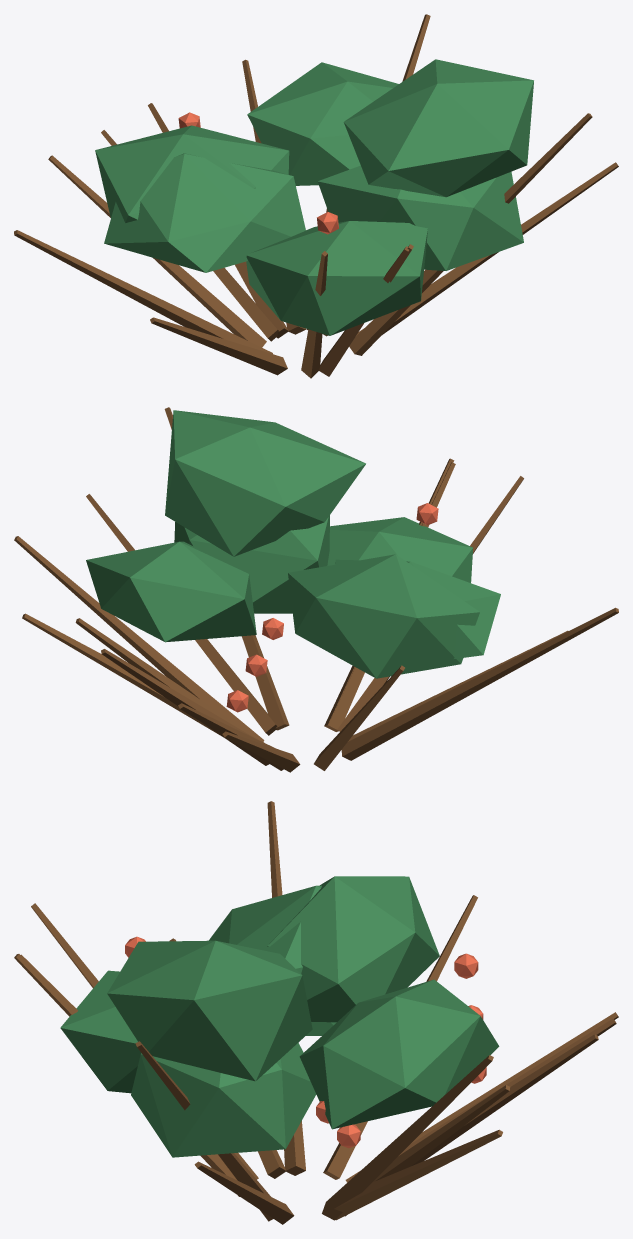
Rendered from sm_env_forest_bramble_thicket.glb.
3 renders of one model, top to bottom at view 1: azimuth 30°, elevation 25°; view 2: azimuth 150°, elevation 25°; view 3: azimuth 270°, elevation 25°, orthographic. The views are drawn at different scales.
Visible parts, largest first — view 1: BrambleLeaves.004, BrambleLeaves.003, BrambleLeaves, BrambleLeaves.005, BrambleLeaves.002, BrambleLeaves.001, BrambleCane.001, BrambleCane.009, BrambleCane.010, BrambleCane.011, BrambleCane.005, BrambleCane.002 (+5 smaller); view 2: BrambleLeaves.004, BrambleLeaves.001, BrambleLeaves.002, BrambleLeaves.005, BrambleLeaves, BrambleCane.001, BrambleCane.008, BrambleLeaves.003, BrambleCane.011, BrambleCane.004, BrambleCane.013, BrambleCane.006 (+7 smaller); view 3: BrambleLeaves.004, BrambleLeaves.002, BrambleLeaves.001, BrambleLeaves.005, BrambleLeaves, BrambleLeaves.003, BrambleCane.008, BrambleCane.004, BrambleCane.013, BrambleCane.006, BrambleCane.001, BrambleCane.011 (+6 smaller).
Part boxes in pixels (left/top/right/bottom): BrambleLeaves.004: left=343, top=59, right=533, bottom=197; BrambleLeaves.003: left=104, top=153, right=305, bottom=272; BrambleLeaves: left=246, top=221, right=427, bottom=335; BrambleLeaves.005: left=317, top=165, right=523, bottom=270; BrambleLeaves.002: left=247, top=62, right=398, bottom=185; BrambleLeaves.001: left=95, top=125, right=289, bottom=222; BrambleCane.001: left=14, top=230, right=272, bottom=353; BrambleCane.009: left=48, top=155, right=266, bottom=347; BrambleCane.010: left=349, top=113, right=592, bottom=355; BrambleCane.011: left=355, top=162, right=618, bottom=336; BrambleCane.005: left=150, top=317, right=287, bottom=375; BrambleCane.002: left=101, top=130, right=278, bottom=341; BrambleLeaves.004: left=165, top=410, right=365, bottom=556; BrambleLeaves.001: left=288, top=554, right=479, bottom=678; BrambleLeaves.002: left=86, top=541, right=256, bottom=642; BrambleLeaves.005: left=174, top=515, right=329, bottom=613; BrambleLeaves: left=327, top=517, right=472, bottom=582; BrambleCane.001: left=341, top=607, right=618, bottom=760; BrambleCane.008: left=14, top=536, right=264, bottom=741; BrambleLeaves.003: left=335, top=559, right=500, bottom=658; BrambleCane.011: left=86, top=494, right=277, bottom=735; BrambleCane.004: left=22, top=613, right=263, bottom=741; BrambleCane.013: left=75, top=618, right=263, bottom=742; BrambleCane.006: left=101, top=649, right=269, bottom=765; BrambleLeaves.004: left=107, top=940, right=312, bottom=1081; BrambleLeaves.002: left=299, top=979, right=499, bottom=1129; BrambleLeaves.001: left=267, top=876, right=439, bottom=1022; BrambleLeaves.005: left=131, top=1042, right=316, bottom=1157; BrambleLeaves: left=60, top=970, right=140, bottom=1093; BrambleLeaves.003: left=209, top=885, right=336, bottom=1035; BrambleCane.008: left=322, top=1055, right=493, bottom=1220; BrambleCane.004: left=334, top=1129, right=502, bottom=1220; BrambleCane.013: left=345, top=1085, right=510, bottom=1216; BrambleCane.006: left=412, top=1034, right=598, bottom=1165; BrambleCane.001: left=267, top=801, right=305, bottom=1175; BrambleCane.011: left=194, top=1161, right=294, bottom=1224.
Bounding box in the file's own units: 2.1 × 0.9765 × 1.72.
